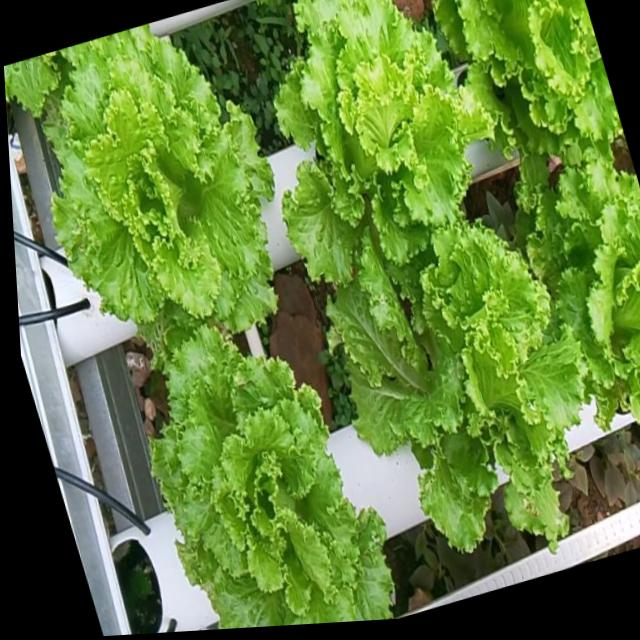Mature: (331, 204, 597, 551), (4, 19, 279, 331), (148, 313, 395, 629), (278, 0, 492, 284), (444, 0, 625, 157), (537, 163, 640, 428)
